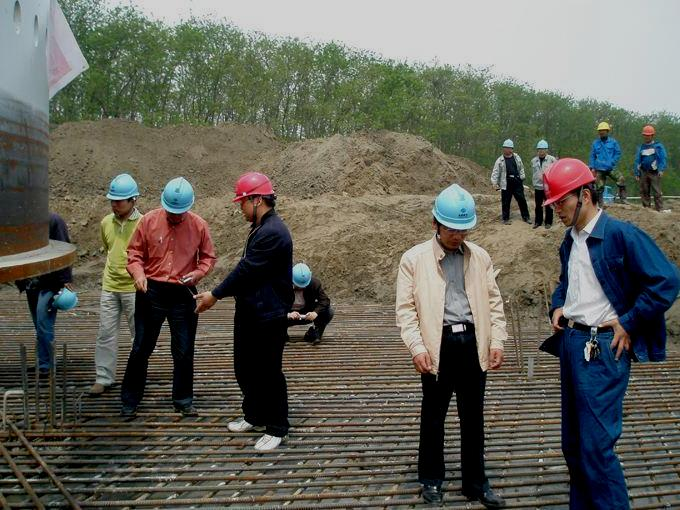helmet: (537, 155, 601, 213), (429, 184, 484, 236), (228, 171, 280, 210), (151, 179, 195, 219), (104, 169, 141, 205)
no_vest: (556, 216, 636, 350), (408, 245, 492, 369), (225, 220, 294, 332), (136, 217, 202, 280)
person: (397, 184, 501, 505), (543, 153, 638, 504), (126, 176, 210, 418), (226, 168, 298, 425), (84, 171, 146, 403), (526, 133, 555, 223), (494, 136, 524, 223), (637, 126, 666, 209), (589, 123, 618, 205)
